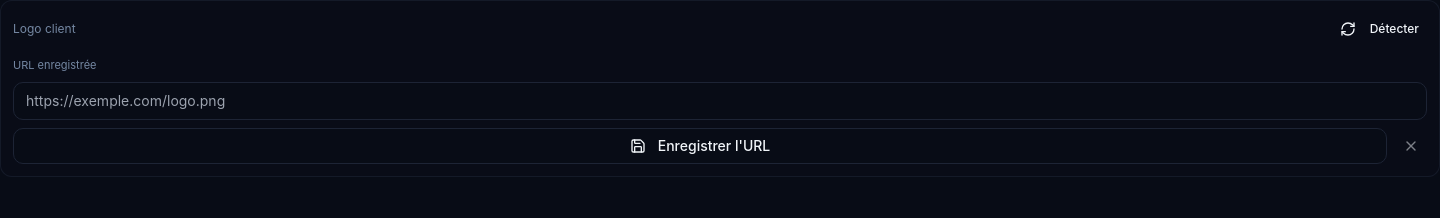
ClientLogoSidebar › saves a manual logo URL and updates the parent after persistence
Step 1. Type "https://cdn.example/logo.png" into the field with placeholder "https://exemple.com/logo.png" → (720, 100), box [13,82,1427,120]
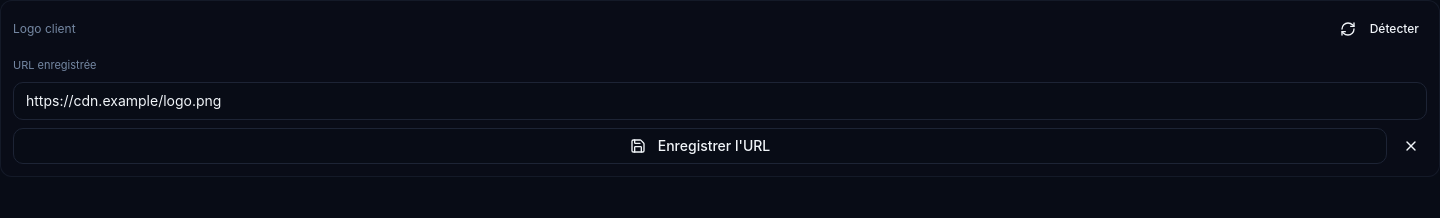
Step 2. Click the button "Enregistrer l'URL" → (700, 146), box [13,128,1387,164]
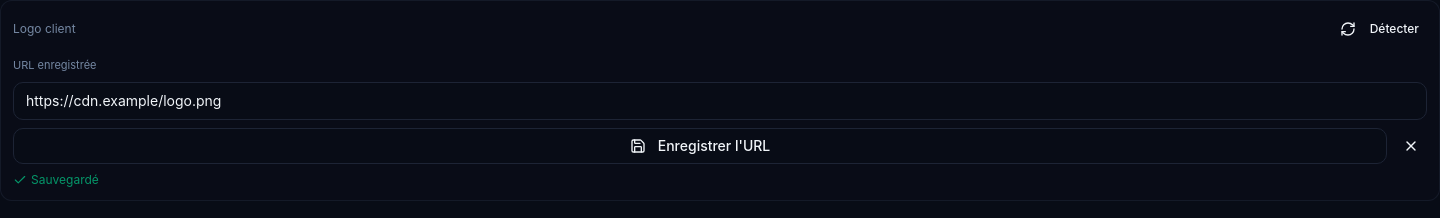
Result: the text "Sauvegardé" is shown at [13,172,99,186]
